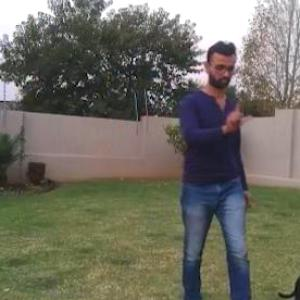land_hand: (220, 91, 252, 137)
